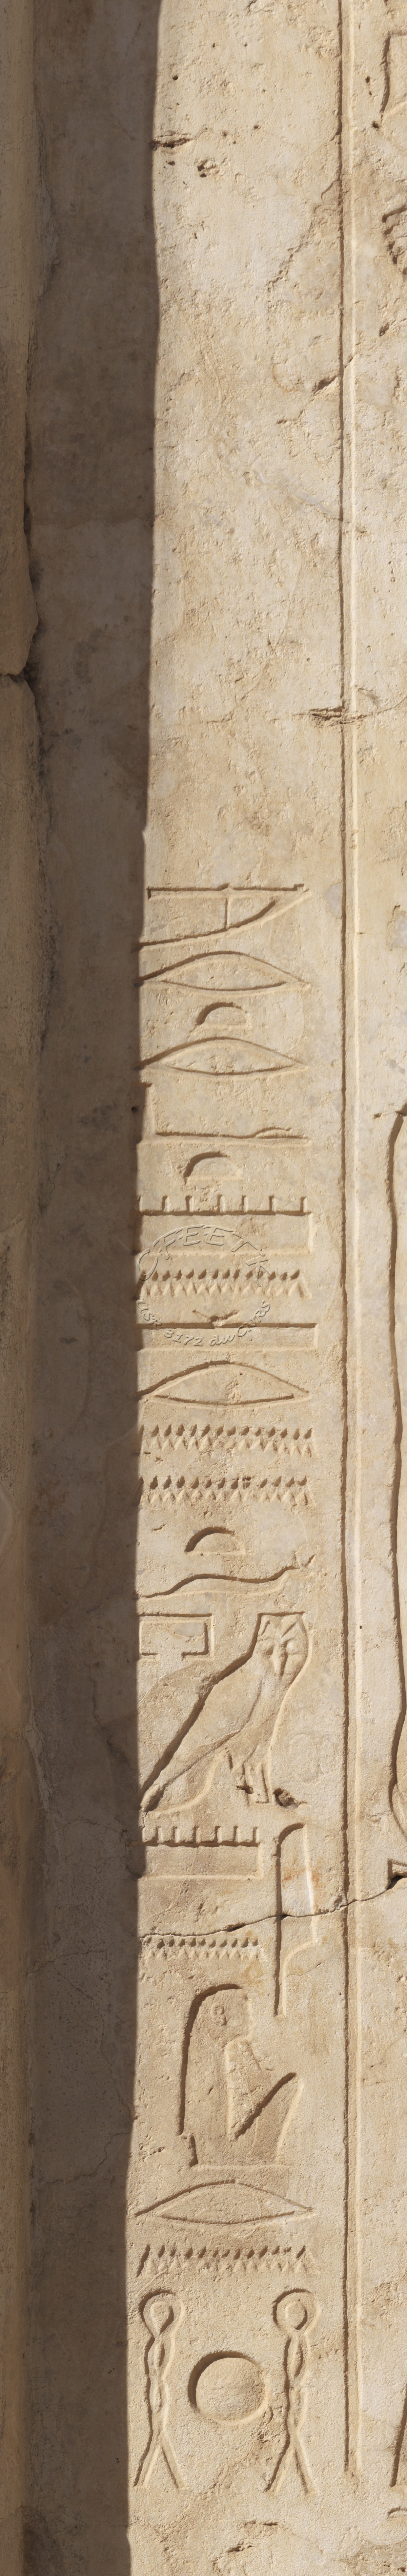D21: (119, 1354, 323, 1418), (129, 945, 316, 1009), (124, 1035, 318, 1091), (127, 2180, 328, 2229)
G17: (130, 1607, 325, 1827)
M17: (265, 1819, 328, 2022)
N35: (133, 2231, 330, 2285), (120, 1263, 321, 1313), (124, 1469, 323, 1516), (124, 1418, 330, 1462), (132, 1929, 269, 1970)
